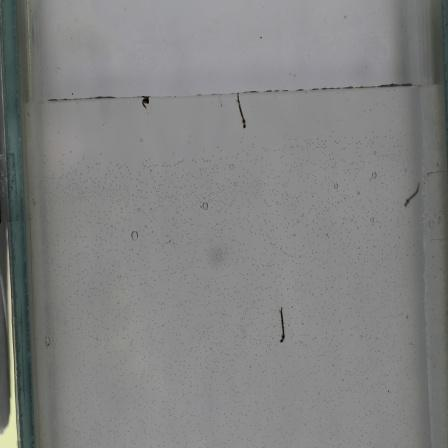Jentik-Nyamuk: (234, 91, 252, 136), (399, 179, 423, 211), (274, 303, 292, 345), (137, 92, 153, 110)
